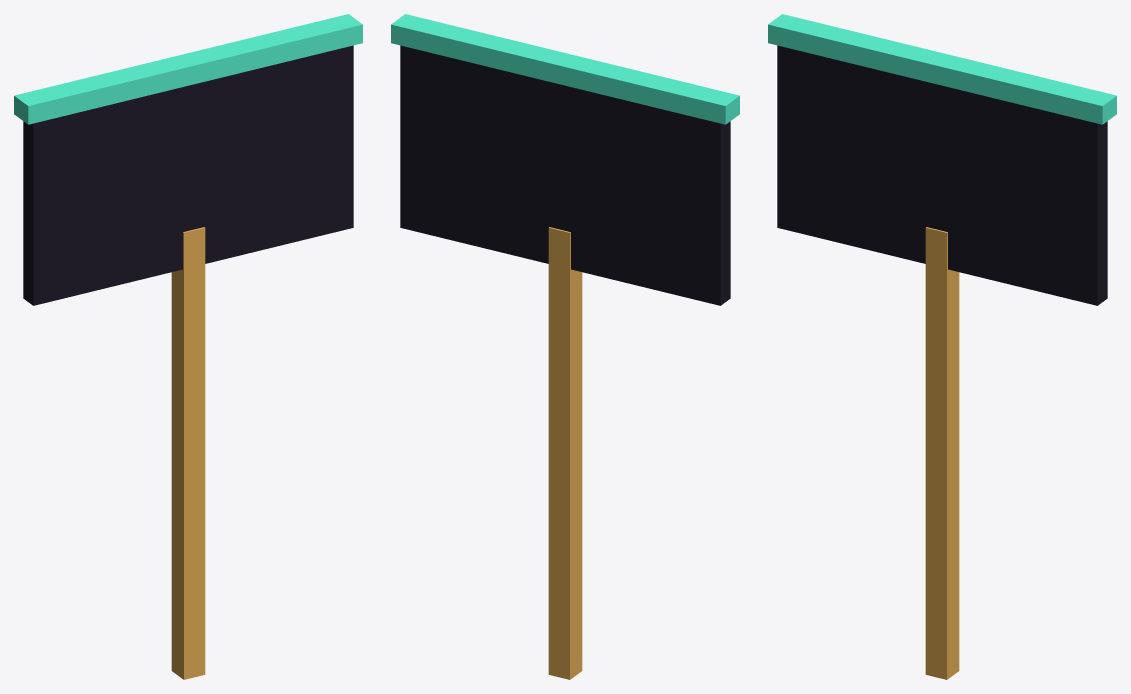
The model's file is sign.obj.
The picture shows the model from 3 angles, left to right: view 1: azimuth 30°, elevation 25°; view 2: azimuth 150°, elevation 25°; view 3: azimuth 330°, elevation 25°; orthographic projection.
Bounding box in the file's own units: 0.94 × 1.64 × 0.07.
